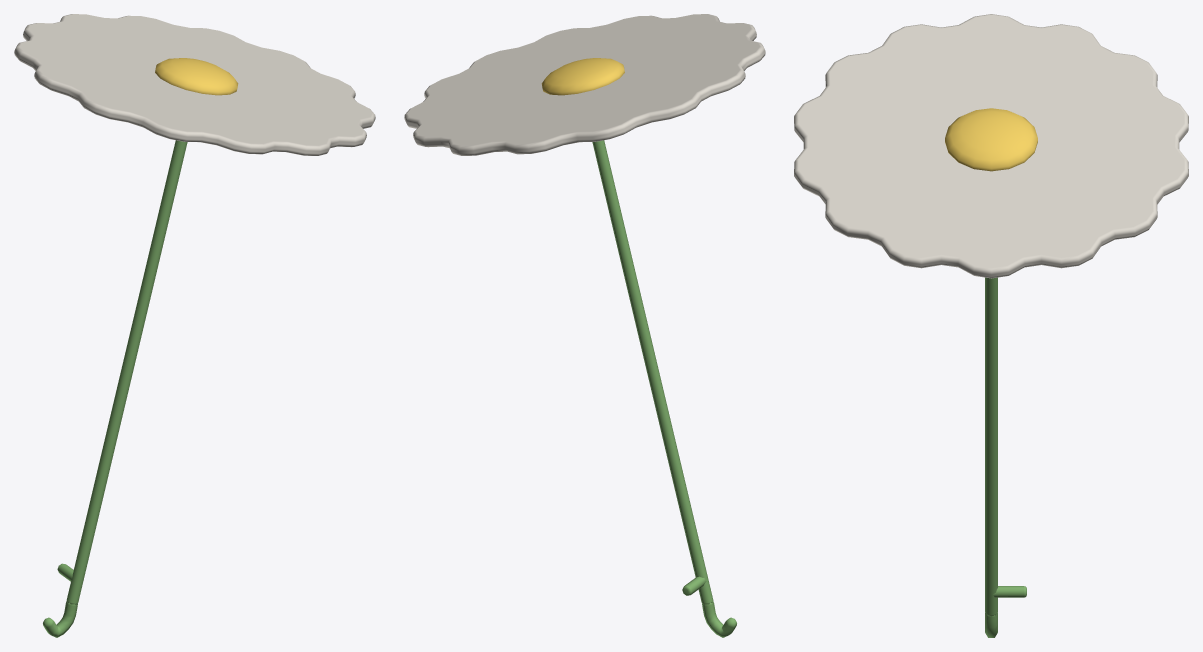
Rendered from petal_parasol.glb.
3 renders of one model, left to right at view 1: azimuth 30°, elevation 25°; view 2: azimuth 150°, elevation 25°; view 3: azimuth 270°, elevation 25°, orthographic. The views are drawn at different scales.
Visible parts, largest first — view 1: petal_parasol_ArmR; view 2: petal_parasol_ArmR; view 3: petal_parasol_ArmR.
Part boxes in pixels (x1,y1,x2,y2): petal_parasol_ArmR: [14, 14, 375, 637]; petal_parasol_ArmR: [404, 14, 765, 637]; petal_parasol_ArmR: [794, 14, 1188, 637].
Bounding box in the file's own units: 0.8283 × 1.43 × 0.8336.
